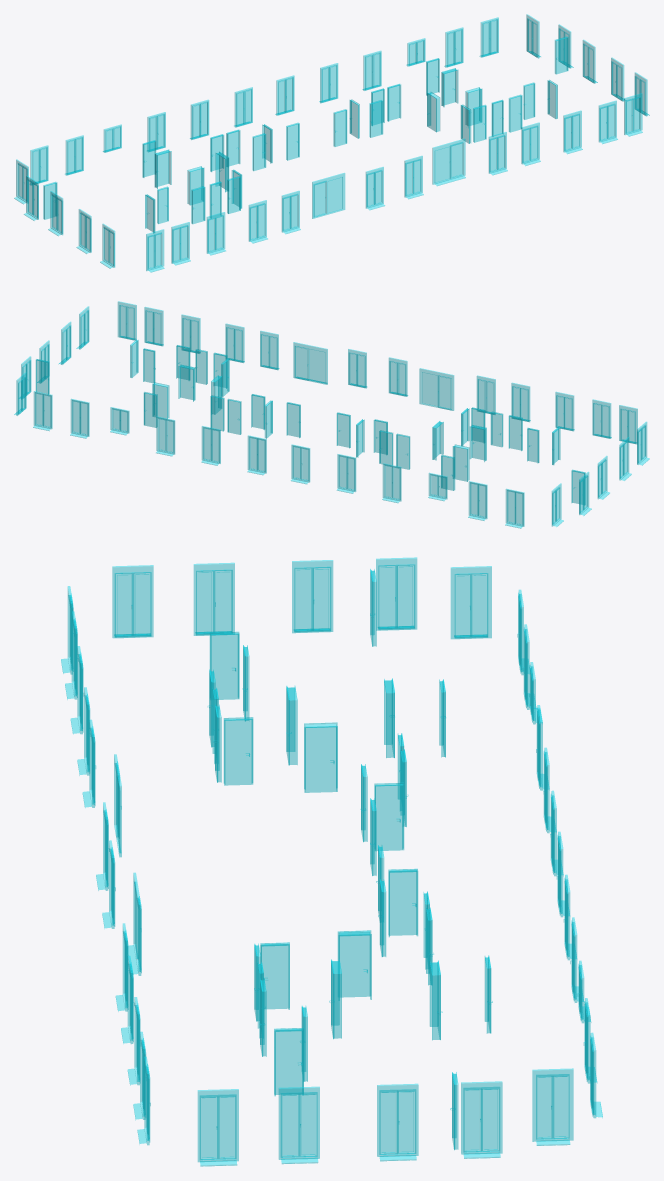
File: Level_02_openings.glb
3 renders of one model, top to bottom at view 1: azimuth 30°, elevation 25°; view 2: azimuth 150°, elevation 25°; view 3: azimuth 270°, elevation 25°, orthographic. The views are drawn at different scales.
Parts seen in each view (by area): view 1: world; view 2: world; view 3: world.
Part boxes in pixels (bbox=[...]): world: bbox=[14, 14, 649, 272]; world: bbox=[14, 301, 649, 528]; world: bbox=[61, 557, 602, 1166].
Size of the model in its own units: 40.19 by 2.52 by 17.06.
